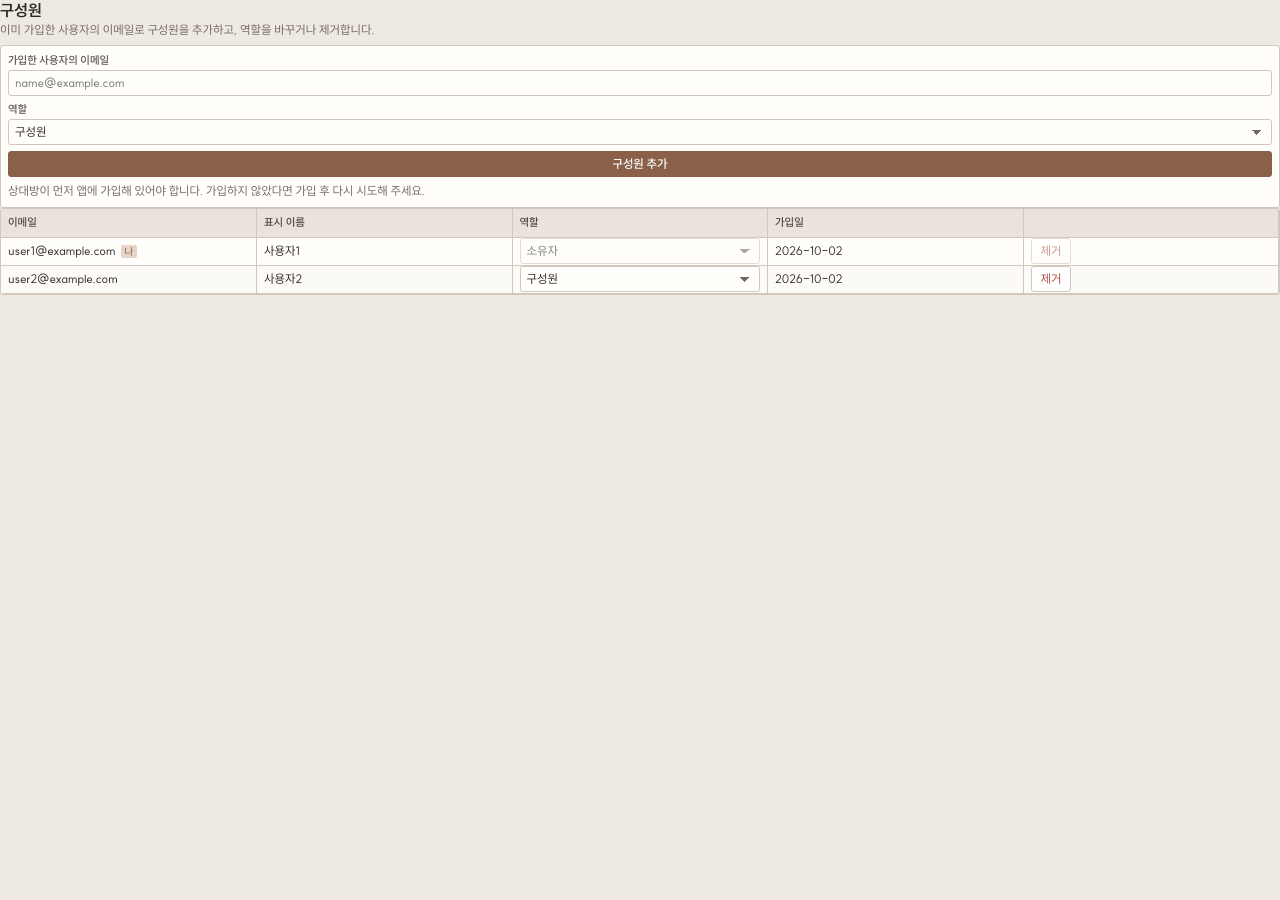
Test: MembersPage › 역할을 바꾸면 확인 후 요청하고 목록을 새로 불러온다
Expected: the text "user2@example.com" is shown, [1,265,256,293]
Select "관리자" in the dropdown named "user2@example.com 역할" at (640, 279), box [520,266,760,292]
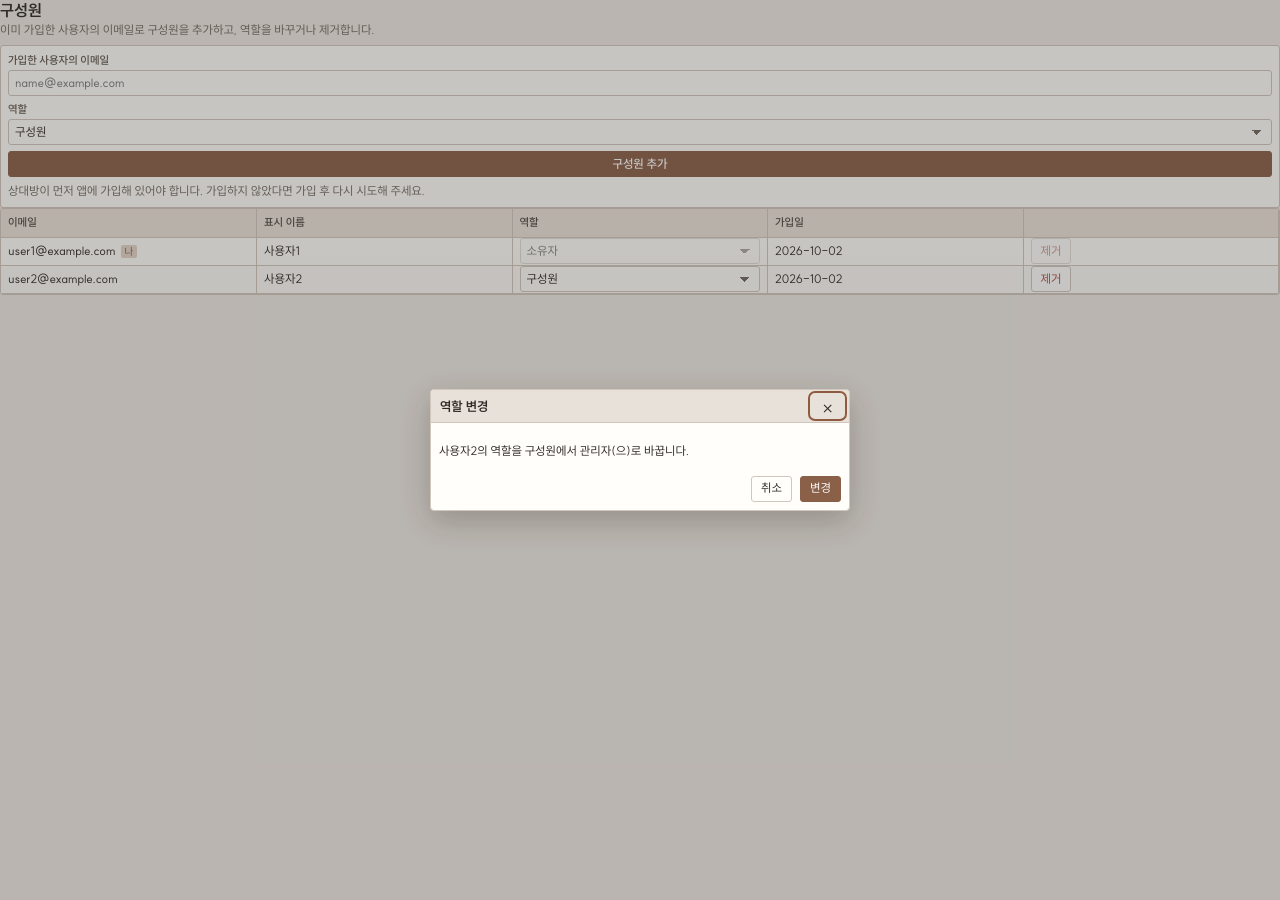
Click the button "변경" at (820, 489), box [800,476,841,502]
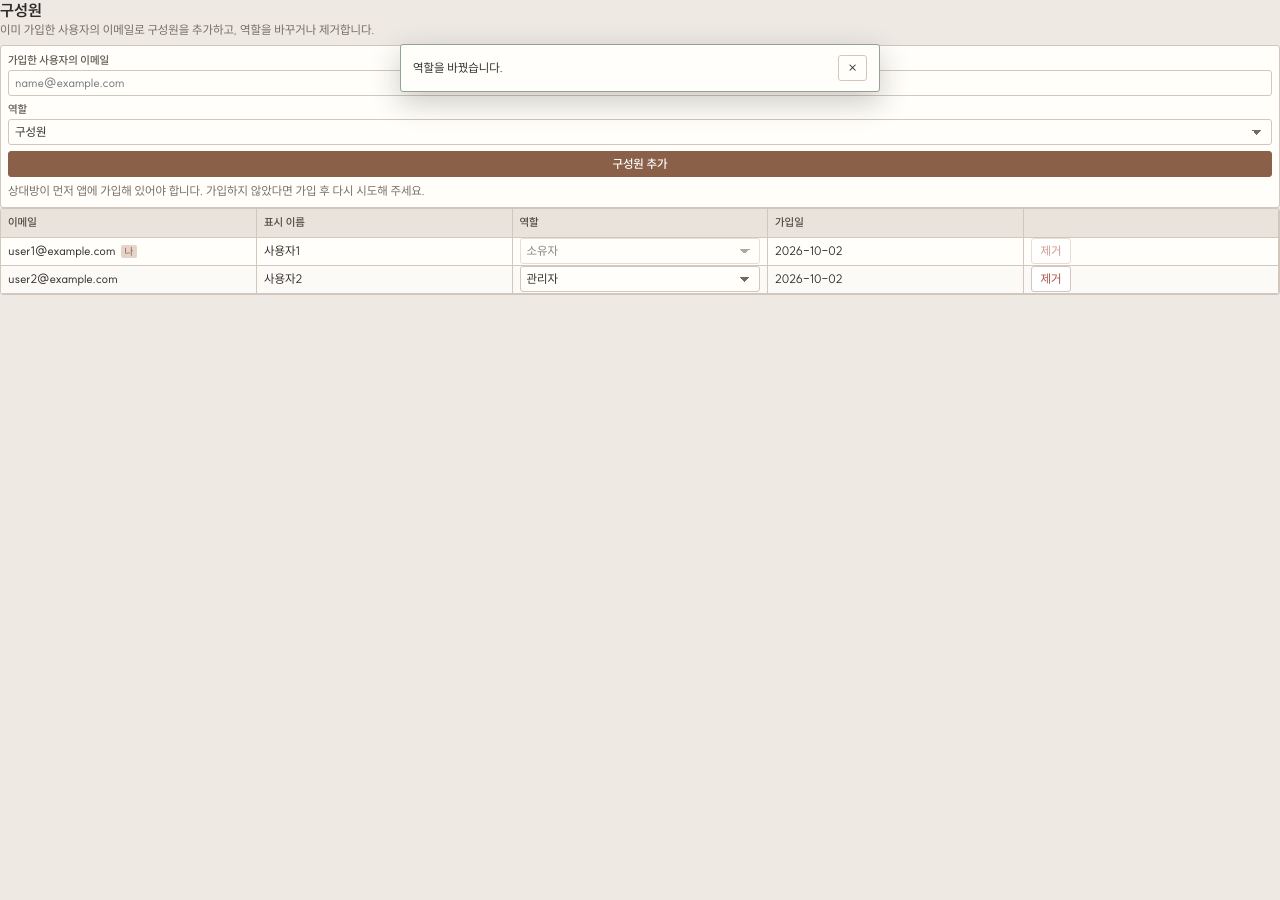
Now the text "역할을 바꿨습니다." is shown, box [413,60,503,75]
